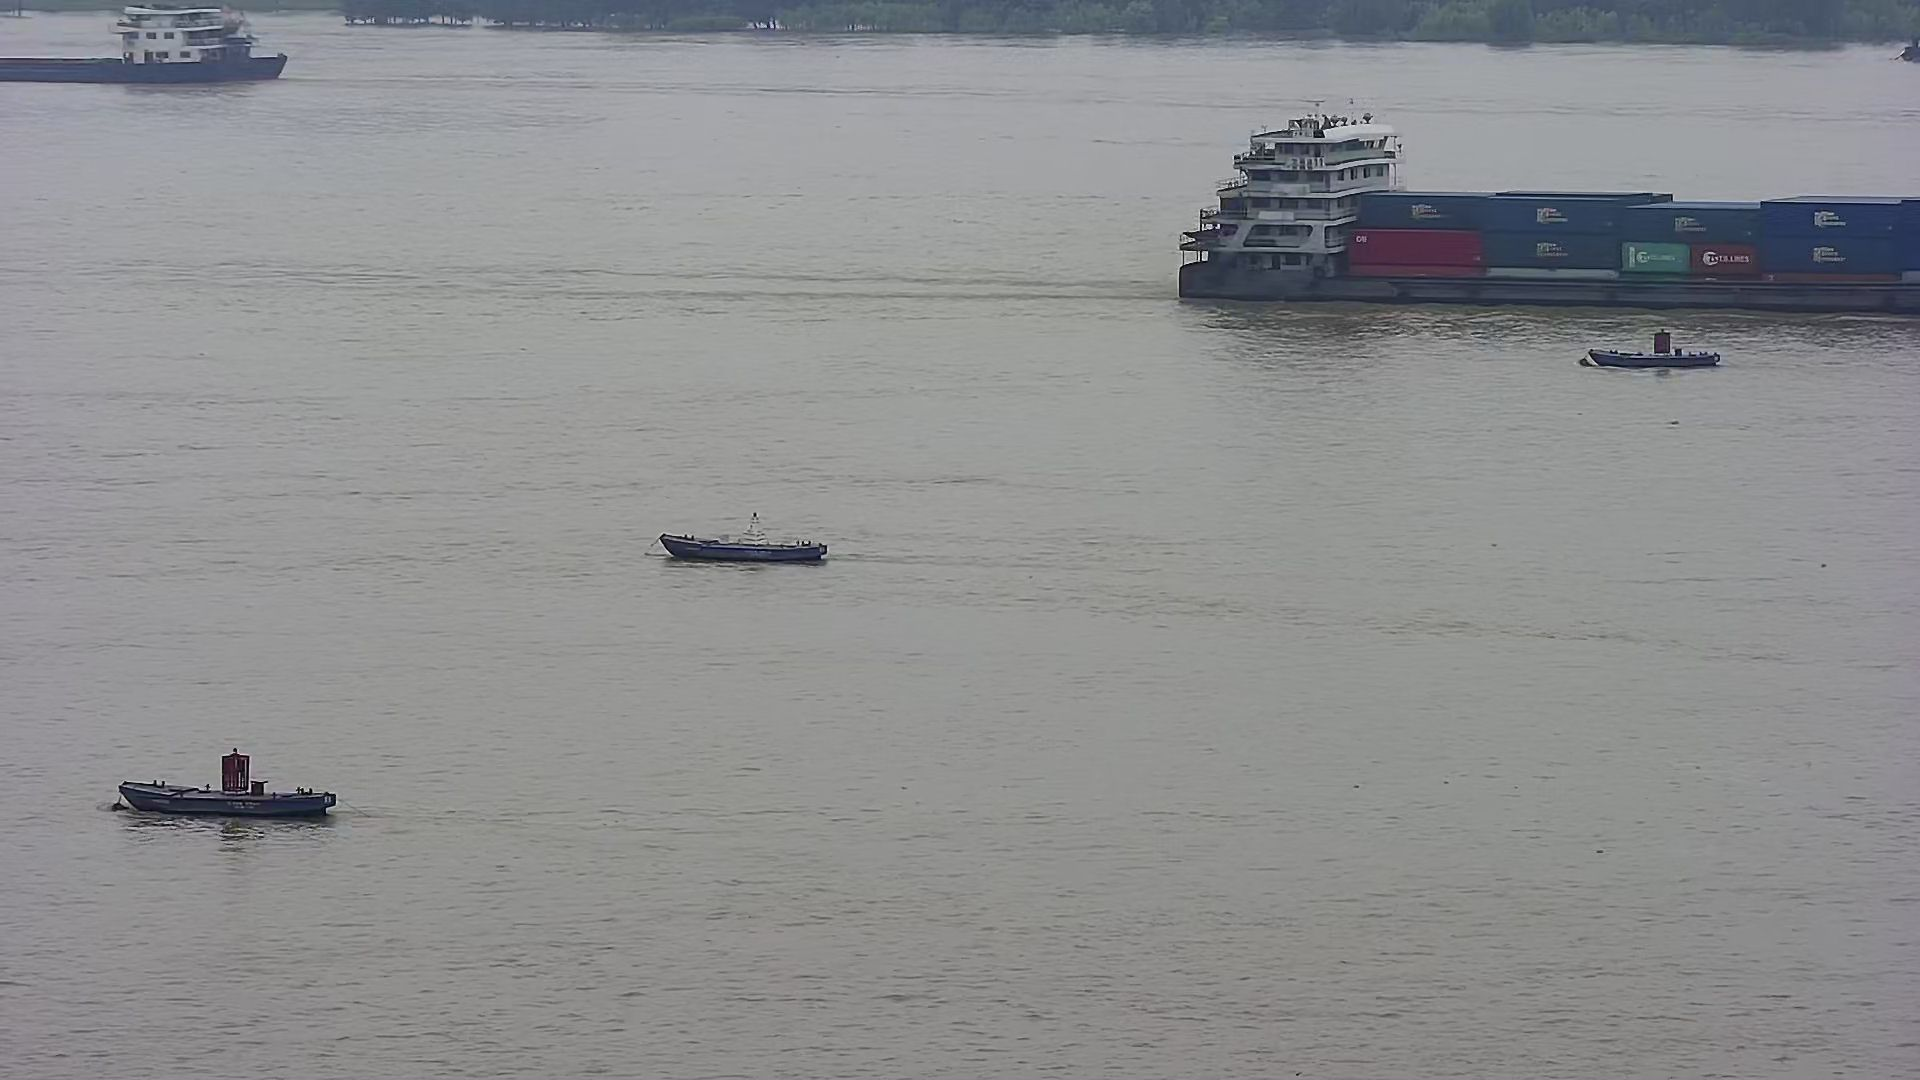boat: (115, 741, 347, 827), (651, 502, 837, 572), (1565, 320, 1737, 376)
ship: (1156, 73, 1920, 332), (1, 1, 324, 98)
